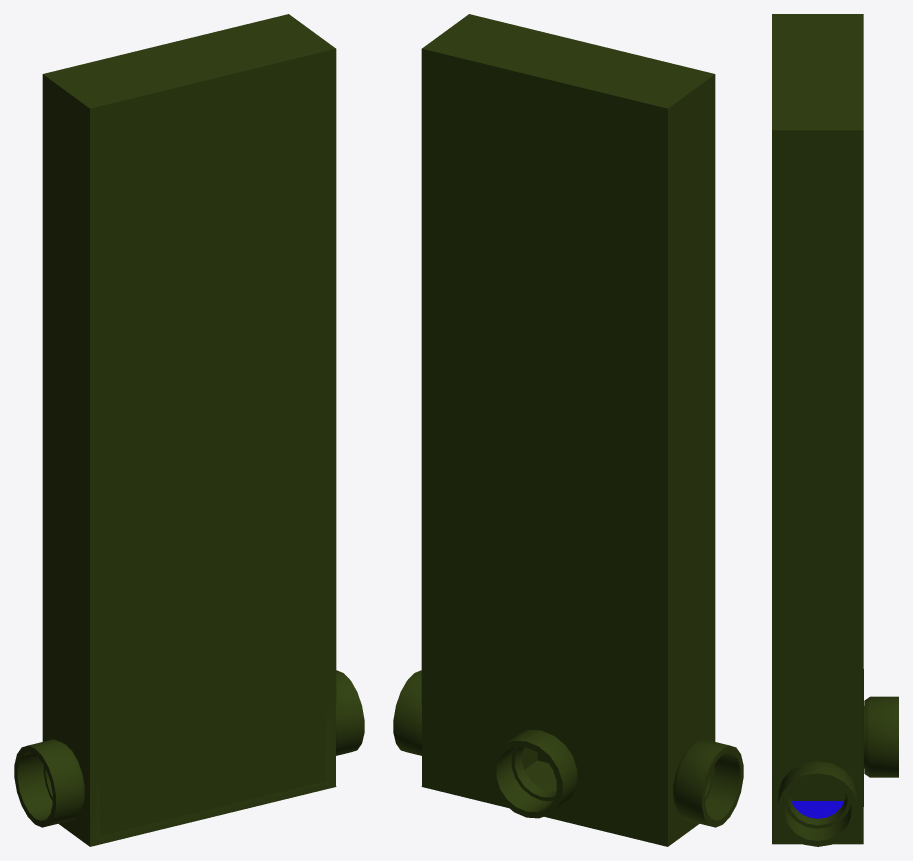
The model's file is Inlet.fbx.
3 views of the same model, side by side, from view 1: azimuth 30°, elevation 25°; view 2: azimuth 150°, elevation 25°; view 3: azimuth 270°, elevation 25° (orthographic). The views are drawn at different scales.
Parts seen in each view (by area): view 1: Inlet_Side_Wall, Inlet; view 2: Inlet; view 3: Inlet, InWater_1.
Boxes of the visible parts, <box> form: Inlet_Side_Wall: <box>100,51,325,836</box>; Inlet: <box>14,14,364,846</box>; Inlet: <box>393,14,743,846</box>; Inlet: <box>772,14,898,846</box>; InWater_1: <box>791,801,843,818</box>.
Size of the model in its own units: 76.46 by 175 by 28.13.
